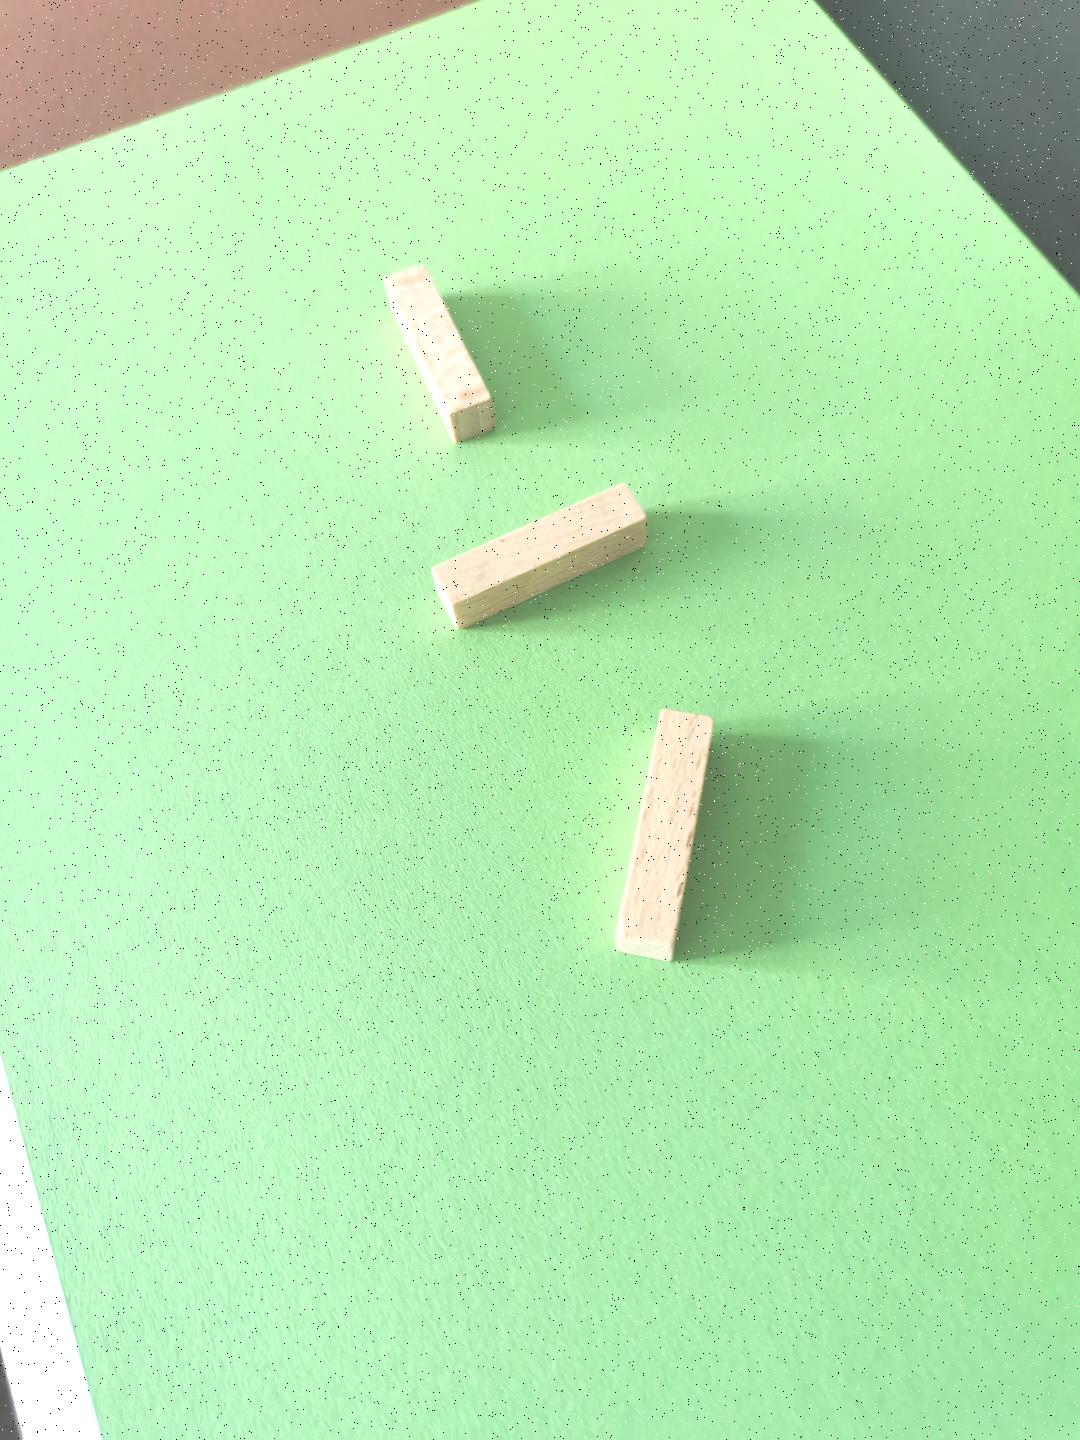jenga: (433, 484, 647, 627), (616, 709, 715, 962), (386, 268, 495, 441)
